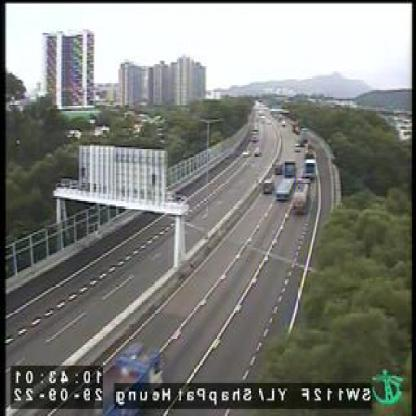Car: (304, 149, 320, 172), (273, 158, 287, 173), (262, 179, 274, 194), (251, 146, 263, 156)
Truck: (273, 158, 302, 203), (290, 173, 314, 217)
